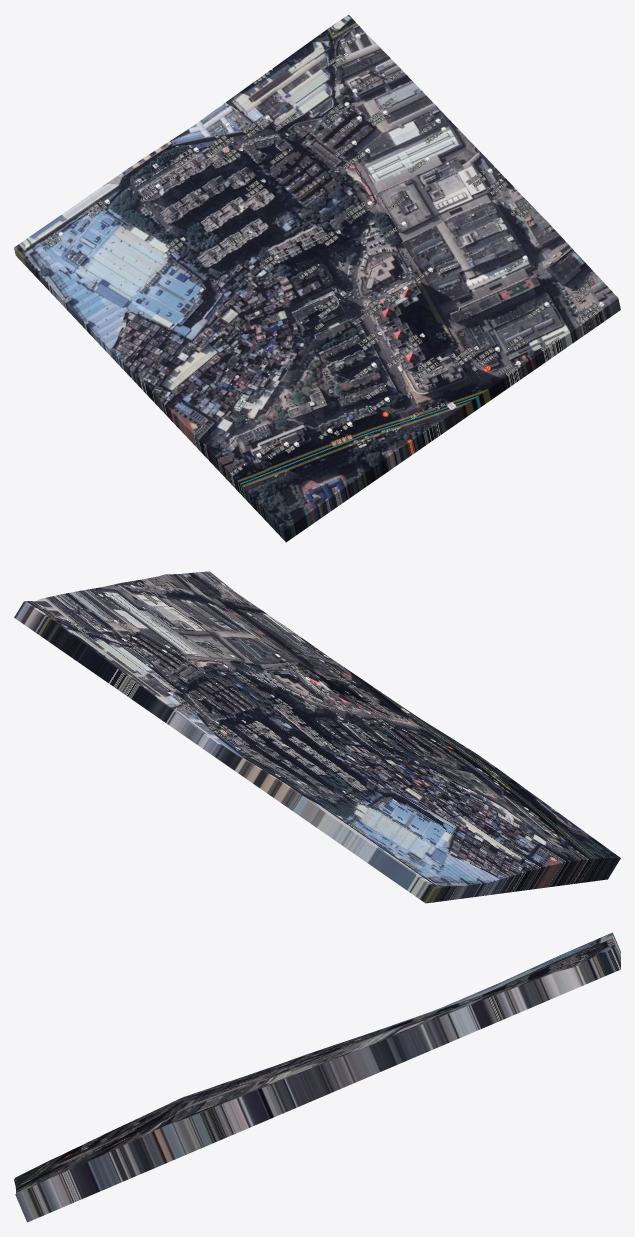
3 renders of one model, top to bottom at view 1: azimuth 30°, elevation 25°; view 2: azimuth 150°, elevation 25°; view 3: azimuth 270°, elevation 25°, orthographic. The views are drawn at different scales.
Visible parts, largest first — view 1: 0_16_16; view 2: 0_16_16; view 3: 0_16_16.
Part boxes in pixels (x1,y1,x2,y2): 0_16_16: [14, 14, 620, 542]; 0_16_16: [14, 571, 620, 903]; 0_16_16: [14, 932, 620, 1222].
Size of the model in its own units: 599 by 445 by 554.
Materials: 1 (1 with a texture image).
